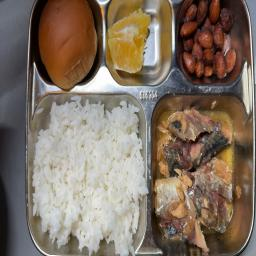100_bread: (36, 0, 103, 87)
100_fish: (152, 103, 245, 248)
100_nuts: (178, 4, 241, 84)
100_rice: (33, 100, 143, 254)
50_orange: (107, 5, 171, 81)
